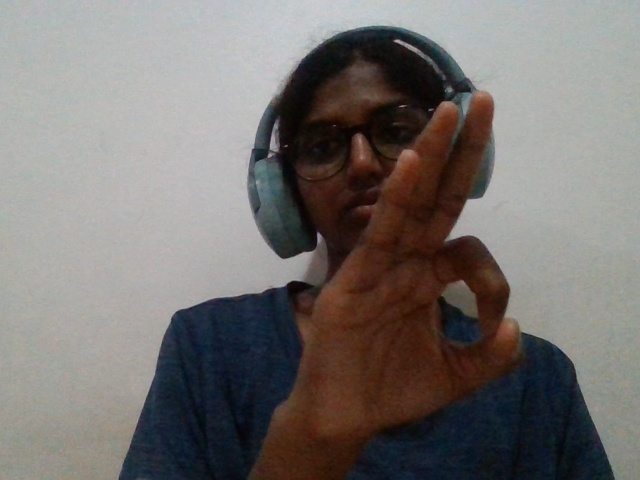F: (280, 64, 518, 480)
